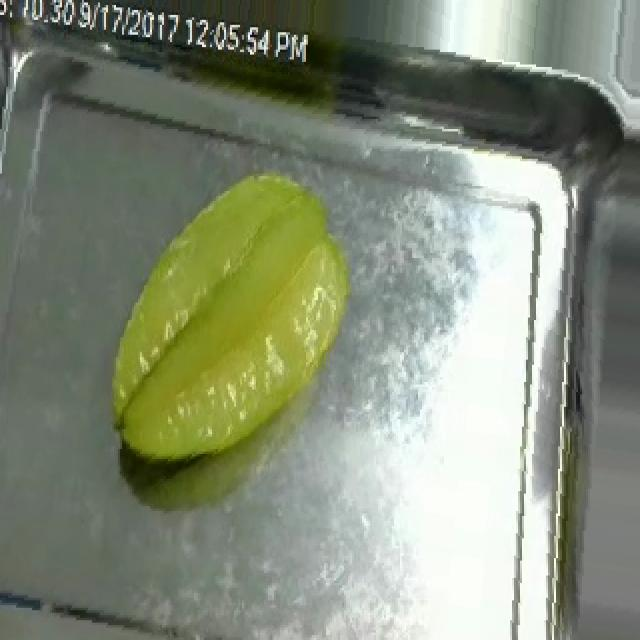fruit: (92, 144, 370, 486)
